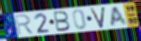0: (72, 9, 88, 31)
2: (33, 12, 51, 34)
A: (110, 6, 129, 28)
B: (53, 11, 71, 33)
R: (14, 14, 35, 36)
V: (90, 6, 106, 29)
